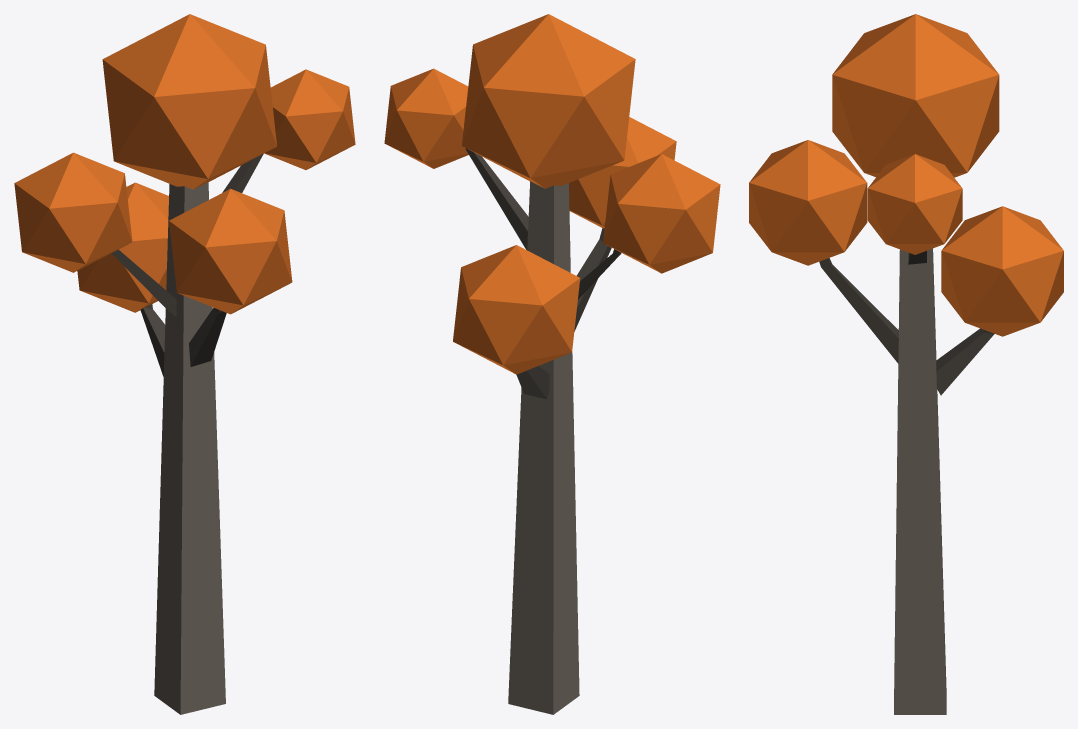
Rendered from tree01 april 27 2016.fbx.
3 renders of one model, left to right at view 1: azimuth 30°, elevation 25°; view 2: azimuth 150°, elevation 25°; view 3: azimuth 270°, elevation 25°, orthographic.
Parts seen in each view (by area): view 1: Cube, Icosphere.005, Icosphere.001, Icosphere.002, Icosphere, Icosphere.003, Cube.002, Cube.003, Cube.001, Cube.004; view 2: Cube, Icosphere.005, Icosphere.003, Icosphere.002, Icosphere, Icosphere.001, Cube.004, Cube.002, Cube.001; view 3: Icosphere.005, Cube, Icosphere.003, Icosphere.001, Icosphere, Cube.002, Cube.001.
Boxes of the visible parts, bbox=[...] form: Cube: bbox=[154, 182, 225, 714]; Icosphere.005: bbox=[102, 14, 276, 189]; Icosphere.001: bbox=[169, 188, 292, 314]; Icosphere.002: bbox=[14, 152, 132, 272]; Icosphere: bbox=[264, 69, 355, 169]; Icosphere.003: bbox=[77, 182, 168, 312]; Cube.002: bbox=[189, 307, 226, 366]; Cube.003: bbox=[111, 249, 176, 316]; Cube.001: bbox=[140, 304, 165, 376]; Cube.004: bbox=[222, 154, 263, 192]; Cube: bbox=[508, 181, 579, 714]; Icosphere.005: bbox=[462, 14, 635, 188]; Icosphere.003: bbox=[453, 245, 580, 374]; Icosphere.002: bbox=[603, 154, 720, 273]; Icosphere: bbox=[384, 68, 468, 168]; Icosphere.001: bbox=[569, 117, 676, 228]; Cube.004: bbox=[465, 148, 528, 249]; Cube.002: bbox=[574, 227, 611, 331]; Cube.001: bbox=[516, 366, 549, 399]; Icosphere.005: bbox=[832, 14, 999, 177]; Cube: bbox=[894, 248, 946, 714]; Icosphere.003: bbox=[941, 206, 1063, 336]; Icosphere.001: bbox=[749, 140, 867, 265]; Icosphere: bbox=[867, 154, 962, 254]; Cube.002: bbox=[819, 258, 898, 363]; Cube.001: bbox=[936, 328, 994, 395].
Size of the model in its own units: 771 by 1557 by 646.
